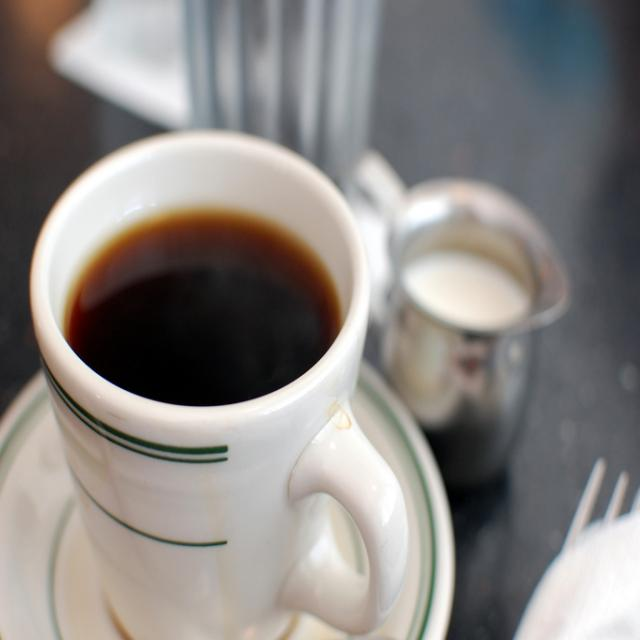Coffee: (64, 204, 346, 408)
Tea: (59, 208, 344, 403)
